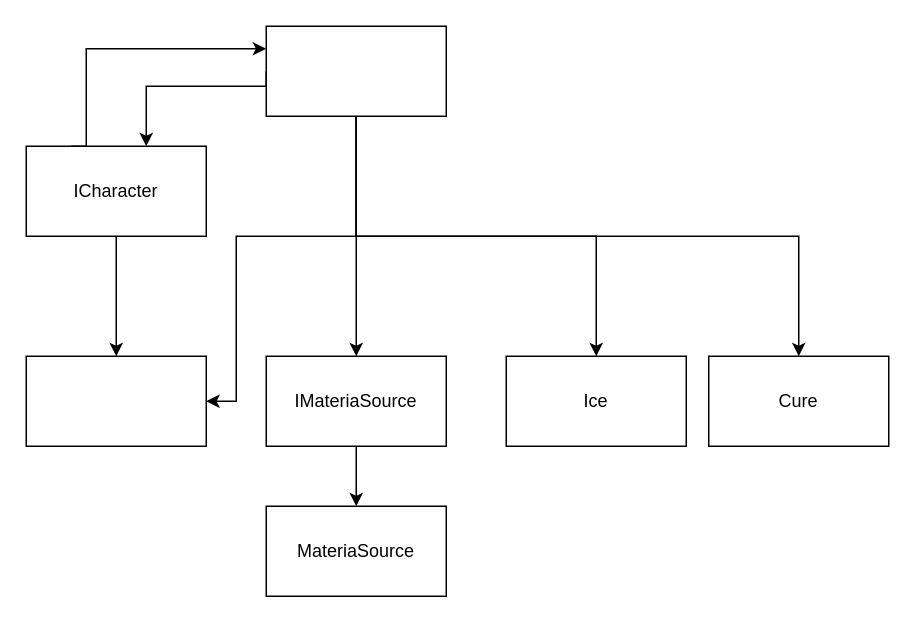
This 915x623 diagram has some shape labels left out. The shapes that lost their labels are listed below. From the top down, each one's box as (x1, y1, x2, y2) in pixels, then its label:
(265, 25, 446, 116): AMateria
(25, 355, 206, 446): Character
